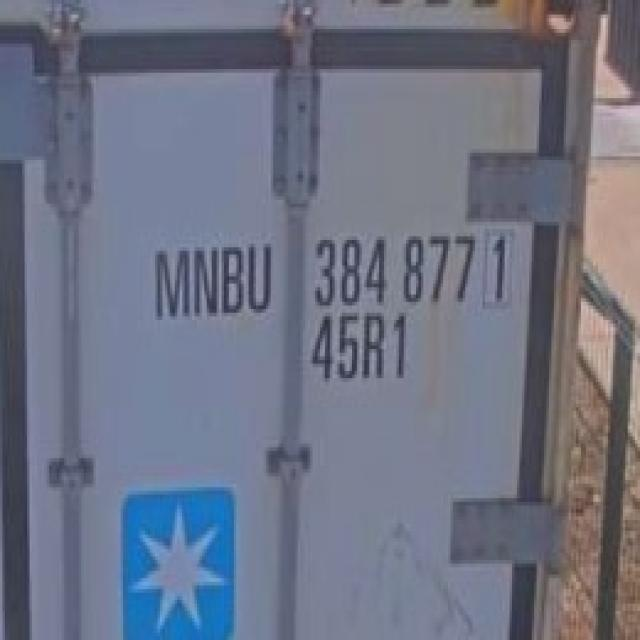dv: (482, 223, 514, 310)
owner: (149, 238, 274, 323)
serial: (312, 225, 476, 311)
size: (308, 312, 410, 389)
